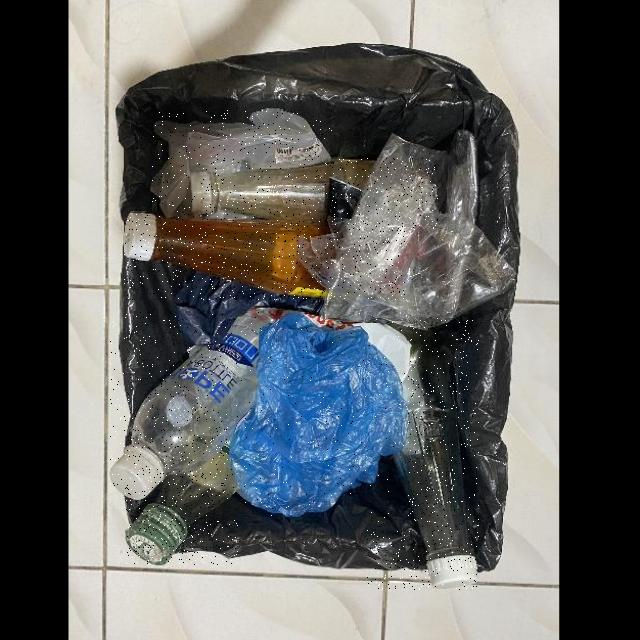glass: (367, 317, 479, 589), (125, 212, 405, 300), (189, 158, 440, 228), (125, 436, 238, 565)
plastic: (229, 313, 408, 517), (111, 312, 297, 500), (150, 110, 332, 219)
